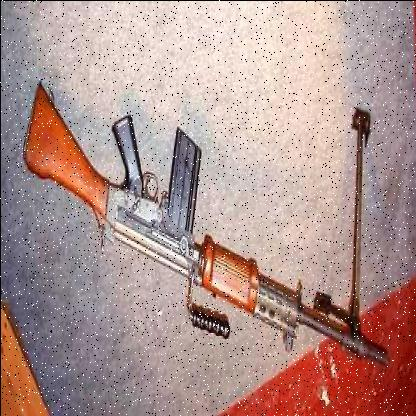rifle: (19, 59, 390, 399)
